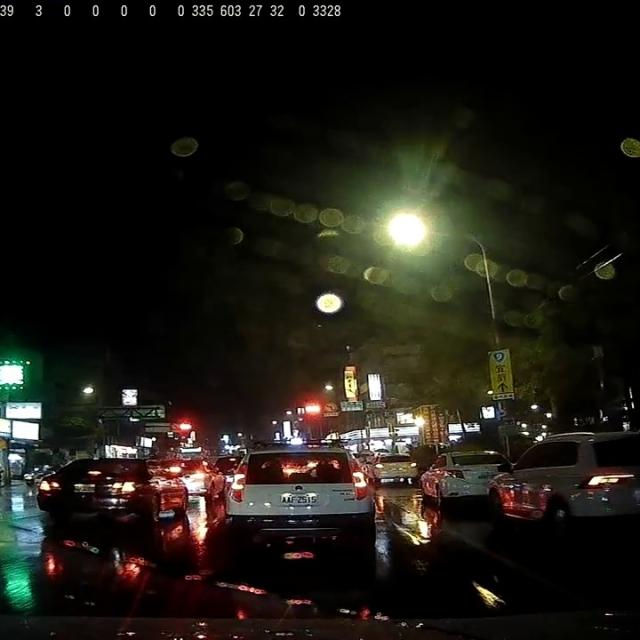Car: (484, 427, 639, 540), (219, 442, 375, 538), (36, 455, 189, 525), (416, 450, 510, 513), (179, 455, 225, 505), (370, 449, 418, 482)
